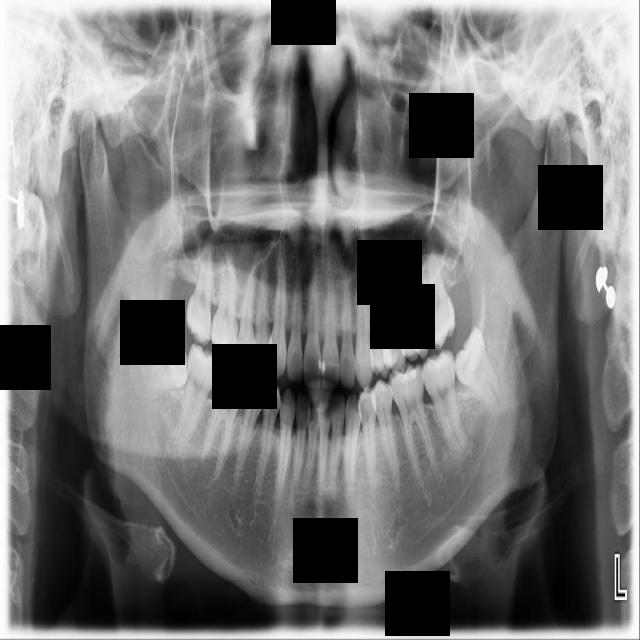52: (220, 357, 260, 402), (321, 361, 325, 374), (318, 360, 322, 369)
73: (618, 608, 626, 616)
BioHorizons Implant: (426, 232, 456, 351)
Biomet 3i Implant: (441, 323, 507, 416)
Blue Sky Bio Implant: (419, 348, 467, 461)
Caries: (183, 238, 218, 348)
Implant: (169, 341, 224, 451)
Keystone Dental Implant: (141, 323, 205, 403)
